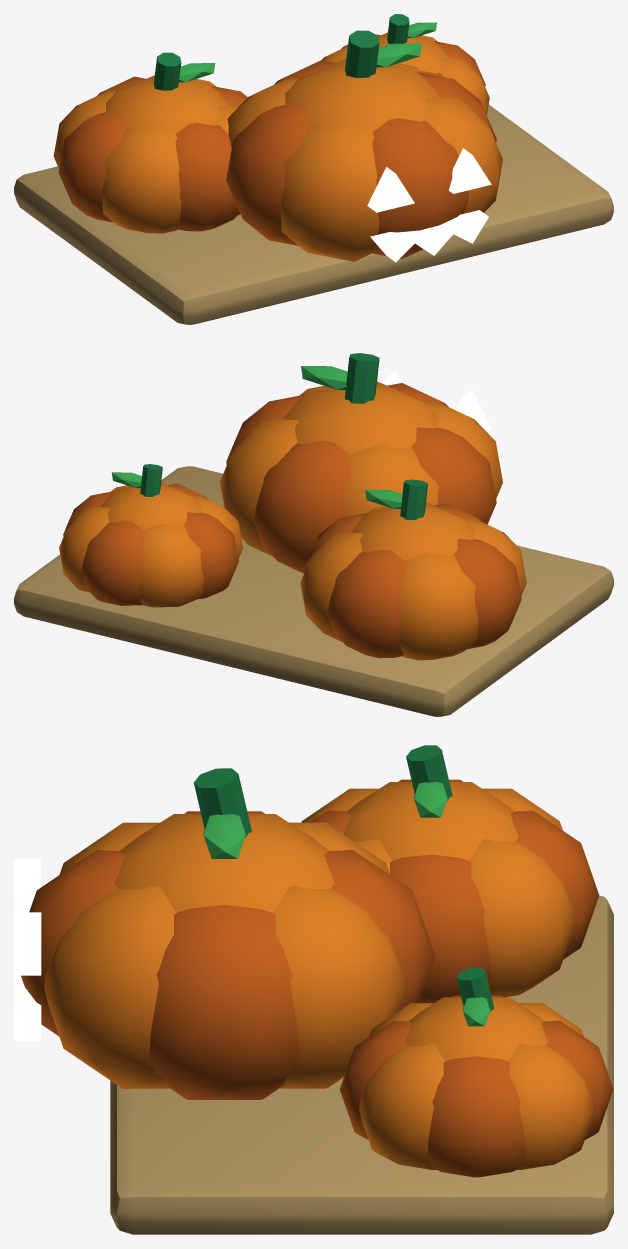
The model's file is lo_pumpkins.glb.
The picture shows the model from 3 angles, top to bottom: view 1: azimuth 30°, elevation 25°; view 2: azimuth 150°, elevation 25°; view 3: azimuth 270°, elevation 25°; orthographic projection. The views are drawn at different scales.
Parts seen in each view (by area): view 1: body, face_glow; view 2: body, face_glow; view 3: body, face_glow.
Boxes of the visible parts, x1,y1,x2,y2 form: body: [14, 14, 613, 324]; face_glow: [367, 148, 491, 262]; body: [14, 353, 613, 716]; face_glow: [382, 371, 491, 431]; body: [21, 745, 613, 1234]; face_glow: [14, 858, 41, 1040].
Bounding box in the file's own units: 1.61 × 0.7584 × 1.31.
